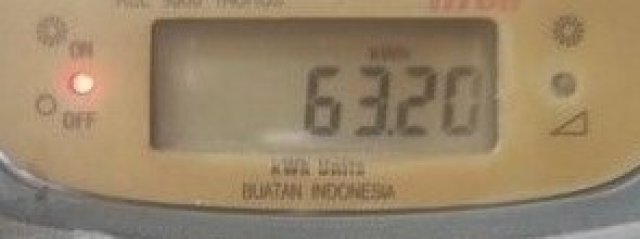box: (152, 21, 496, 153)
